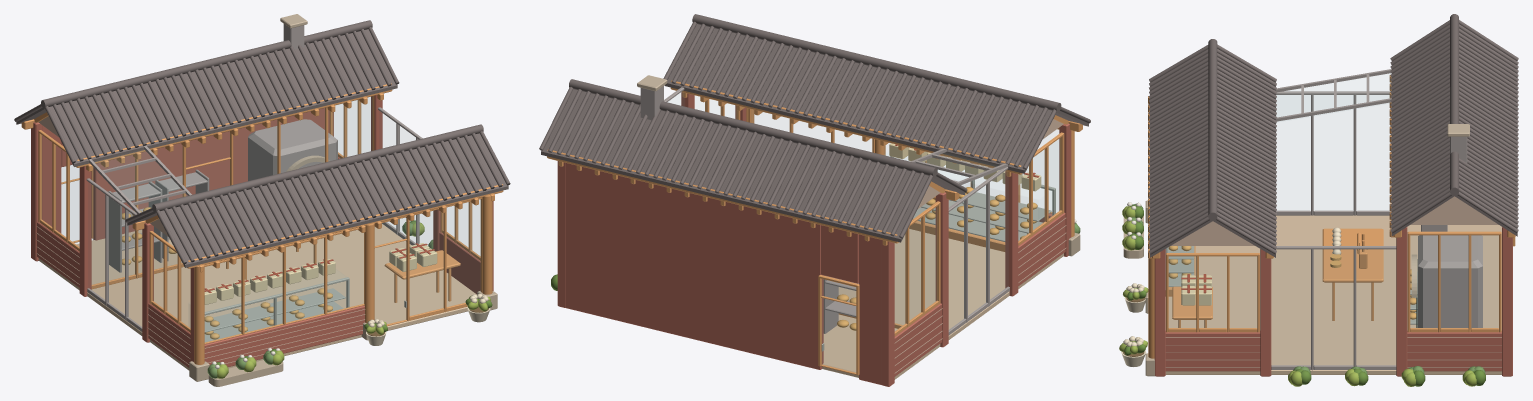
File: 11-B-ed73d1cbfea1.glb
3 renders of one model, left to right at view 1: azimuth 30°, elevation 25°; view 2: azimuth 150°, elevation 25°; view 3: azimuth 270°, elevation 25°, orthographic. The views are drawn at different scales.
Parts seen in each view (by area): view 1: R 连续瓦屋面, R 筒瓦, S 店内楼面, A 后墙右段, R 屋脊, A 红砖山墙角柱, A 侧墙窗下, A 前窗下砖墙, A 侧木窗, I 烤炉实体, A 前廊木柱, I 礼盒 (+23 smaller); view 2: A 后墙右段, R 连续瓦屋面, R 筒瓦, S 店内楼面, A 红砖山墙角柱, R 屋脊, A 侧墙窗下, A 侧木窗, A 后墙左段, R 木檐枋, I 展柜托盘, A 后门过梁 (+12 smaller); view 3: R 筒瓦, S 店内楼面, A 侧墙窗下, A 红砖山墙角柱, I 烤炉实体, A 侧木窗, A 侧连廊玻璃, I 桌面, R 屋脊, A 山墙上段, L 地被与灌丛, D 山墙砖缝 (+10 smaller).
Part boxes in pixels (x1,y1,x2,y2): R 连续瓦屋面: (16,29,508,267); R 筒瓦: (14,27,510,264); S 店内楼面: (38,224,476,370); A 后墙右段: (93,108,324,240); R 屋脊: (41,20,483,212); A 红砖山墙角柱: (31,95,493,362); A 侧墙窗下: (37,157,480,367); A 前窗下砖墙: (204,305,364,366); A 侧木窗: (38,99,480,332); I 烤炉实体: (248,119,337,180); A 前廊木柱: (194,195,492,364); I 礼盒: (204,243,437,304); A 后墙右段: (565,163,823,369); R 连续瓦屋面: (541,24,1088,242); R 筒瓦: (539,21,1090,238); S 店内楼面: (822,229,1063,379); A 红砖山墙角柱: (557,92,1071,386); R 屋脊: (569,14,1061,176); A 侧墙窗下: (894,212,1065,376); A 侧木窗: (705,99,1064,336); A 后墙左段: (859,234,881,384); R 木檐枋: (547,80,1082,243); I 展柜托盘: (912,192,1051,241); A 后门过梁: (821,225,858,283); R 筒瓦: (1149,20,1518,254); S 店内楼面: (1165,215,1501,374); A 侧墙窗下: (1165,331,1501,371); A 红砖山墙角柱: (1154,227,1512,376); I 烤炉实体: (1418,235,1482,328); A 侧木窗: (1166,231,1501,332); A 侧连廊玻璃: (1271,91,1396,370); I 桌面: (1172,228,1383,319); R 屋脊: (1208,14,1458,220); A 山墙上段: (1171,196,1498,245); L 地被与灌丛: (1122,204,1485,386); D 山墙砖缝: (1165,337,1501,367).
Bounding box in the file's own units: 20.69 × 11.76 × 19.69.
